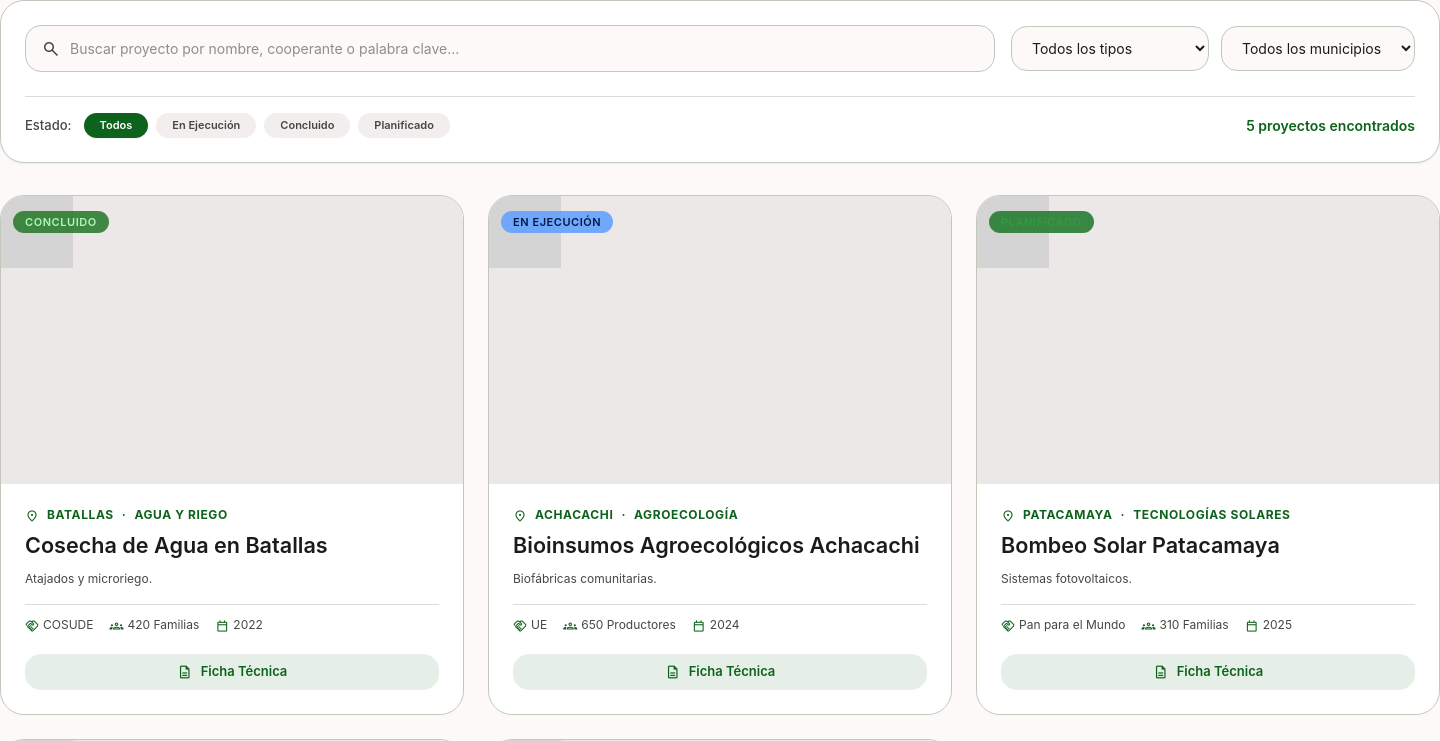
it: ProjectsExplorer — filtro por estado › filtra por estado 'Concluido' → muestra 2 proyectos
The image size is (1440, 741).
Click the button "Concluido": (307, 125) [264,113,350,138]
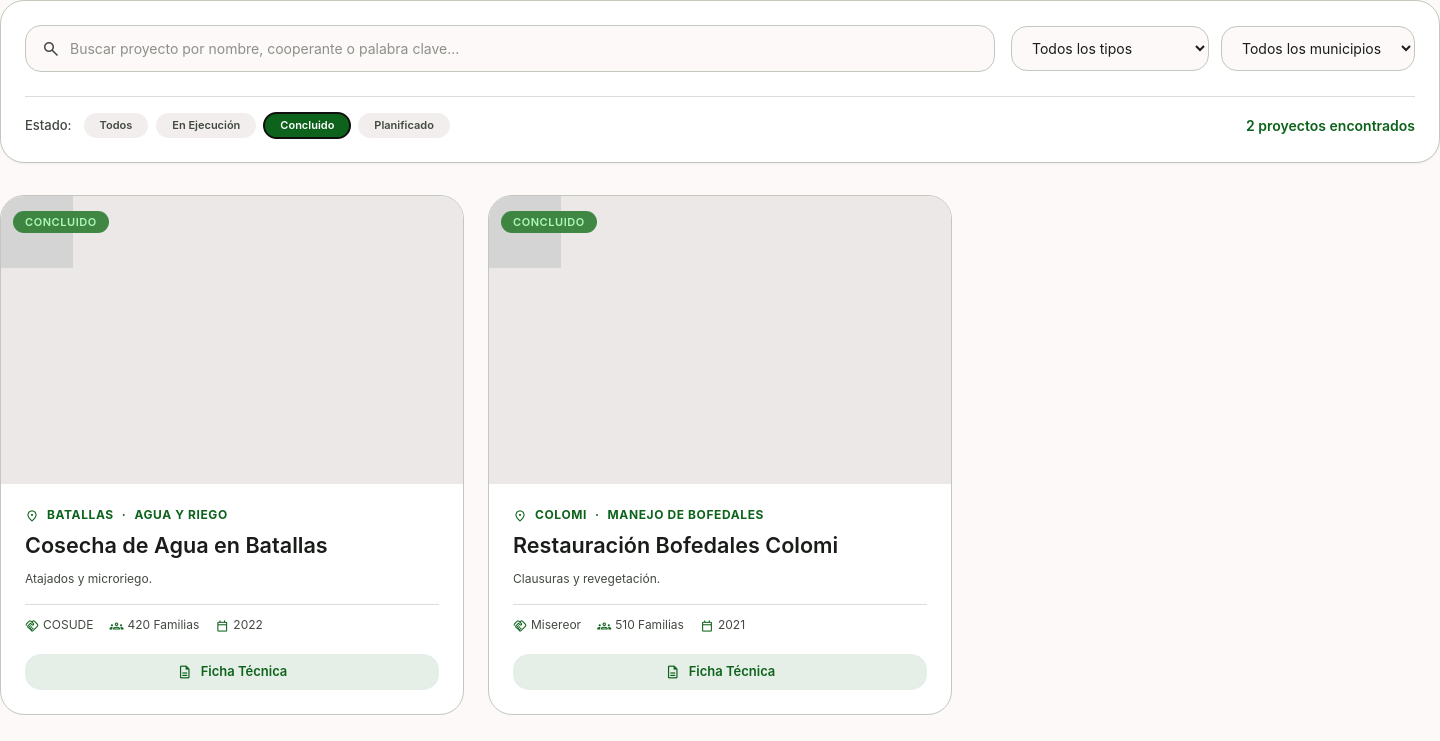
Expected: the heading "Cosecha de Agua en Batallas" is shown, [25,532,328,558]
Expected: the heading "Bioinsumos Agroecológicos Achacachi" is gone
Expected: the text "2 proyectos encontrados" is shown, [1246,117,1415,134]
